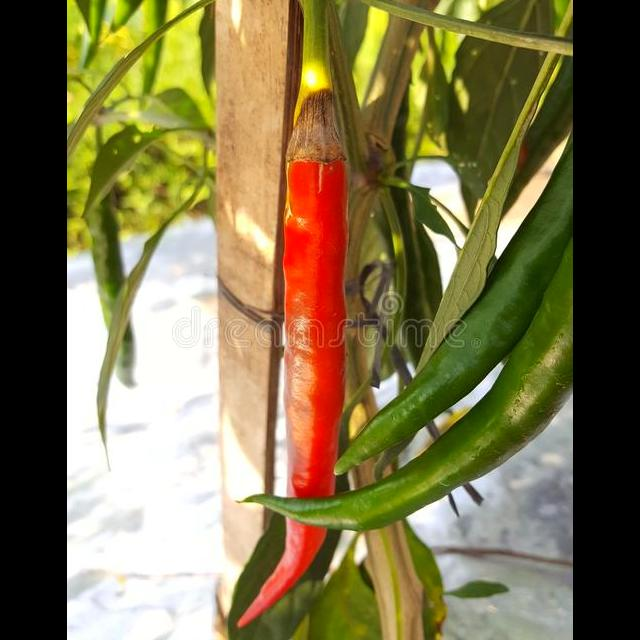chili_pepper: (249, 247, 573, 532), (336, 145, 572, 474), (283, 0, 347, 498), (237, 520, 324, 628)
